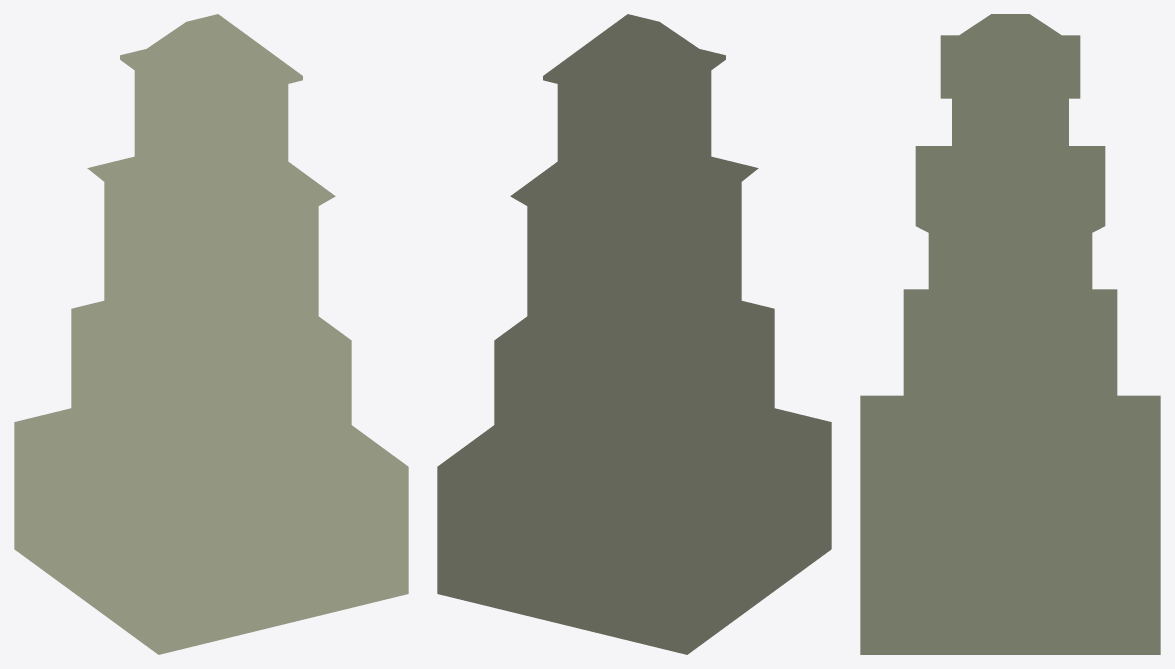
The model's file is lighthouse.dae.
3 renders of one model, left to right at view 1: azimuth 30°, elevation 25°; view 2: azimuth 150°, elevation 25°; view 3: azimuth 270°, elevation 25°, orthographic. The views are drawn at different scales.
Visible parts, largest first — view 1: cube3-0; view 2: cube3-0; view 3: cube3-0.
Part boxes in pixels (x1,y1,x2,y2): cube3-0: (14, 14, 408, 654); cube3-0: (437, 14, 831, 654); cube3-0: (860, 14, 1160, 654).
Size of the model in its own units: 432 by 903 by 432.
